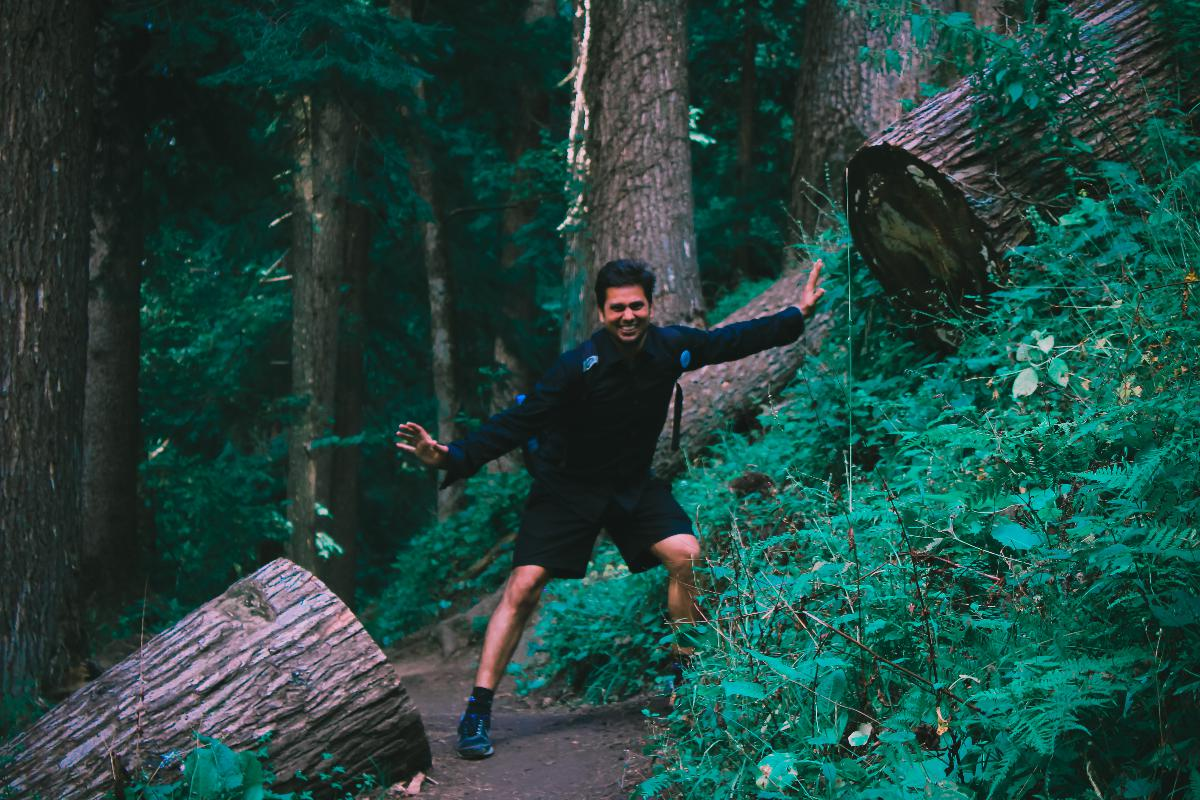Person: (389, 259, 845, 750)
